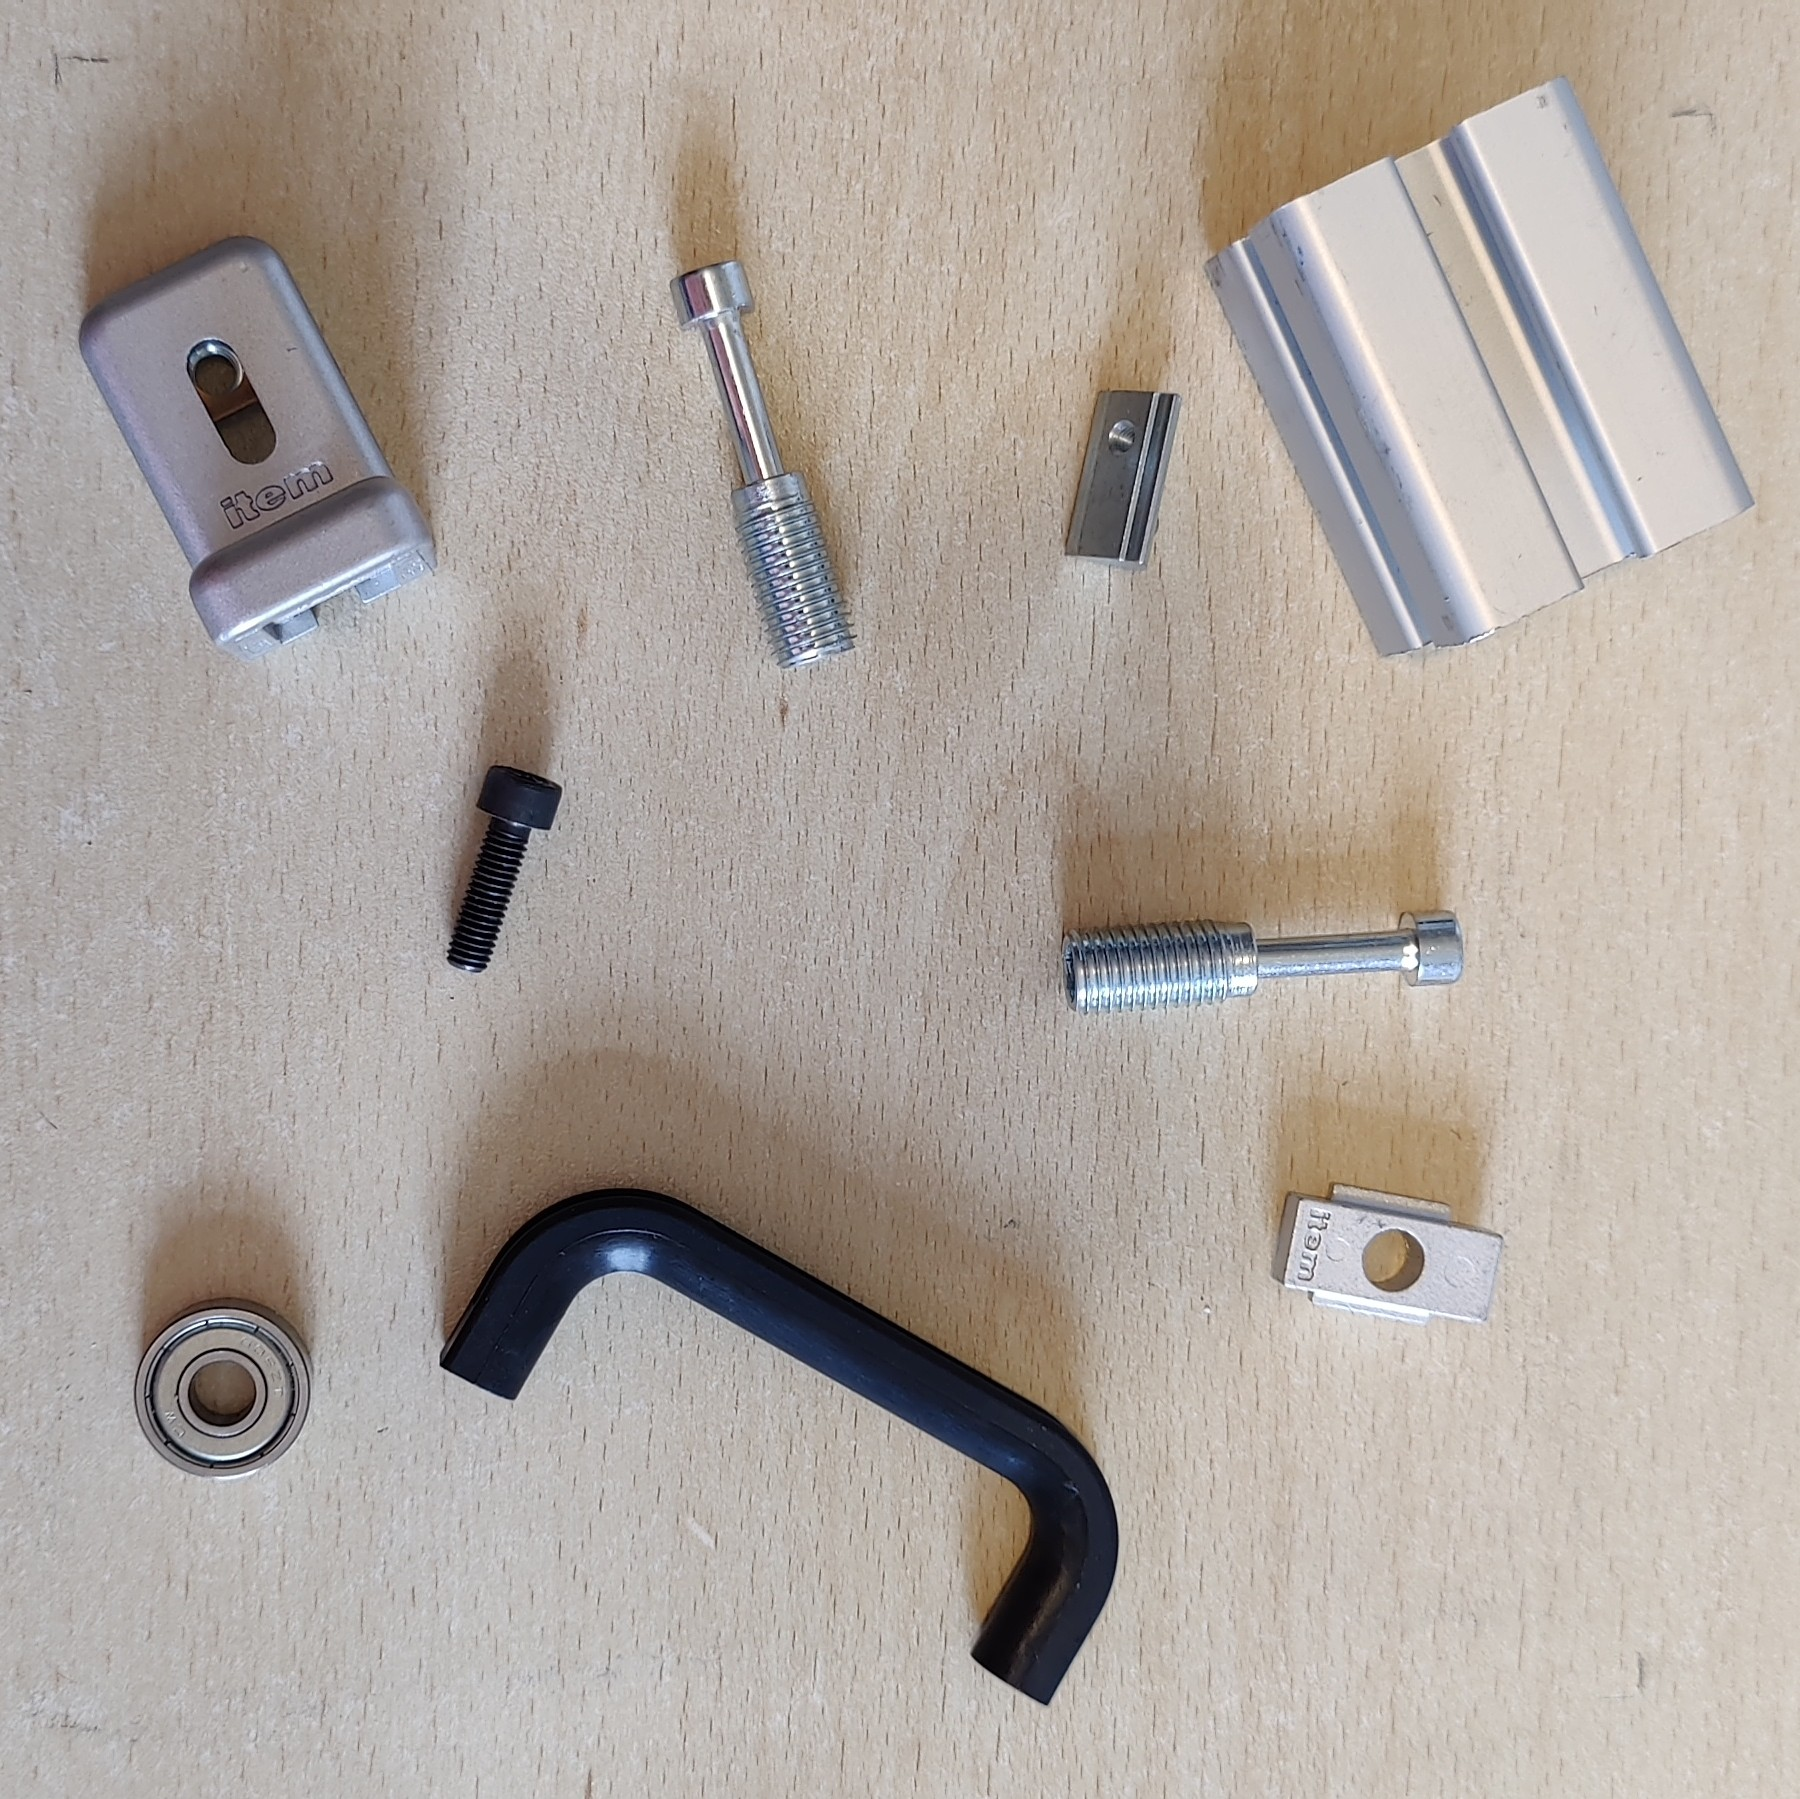Aluminium Extension: (1197, 72, 1756, 662)
Ball Bearing: (132, 1298, 315, 1484)
Multiwinkel: (76, 231, 440, 661)
Pull Handle: (438, 1185, 1120, 1710)
Shoulder Socket Head Cap Screw: (670, 257, 861, 672), (1057, 904, 1466, 1016)
Socket Head Cap Screw: (441, 761, 567, 975)
T Nut Square: (1265, 1180, 1505, 1331)
T Spring Nut: (1061, 382, 1186, 575)
